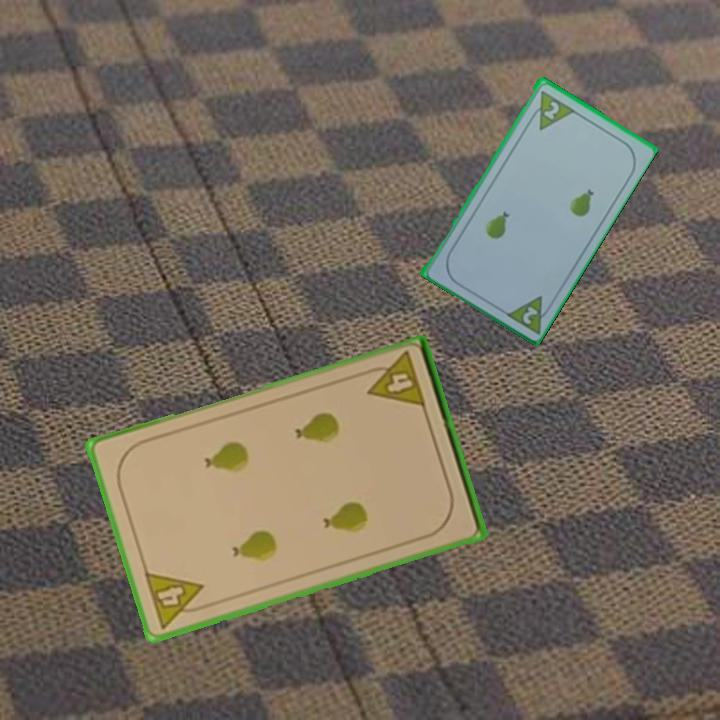2p: (524, 86, 576, 133), (519, 302, 541, 327)
4p: (140, 568, 212, 631), (359, 348, 429, 411)
